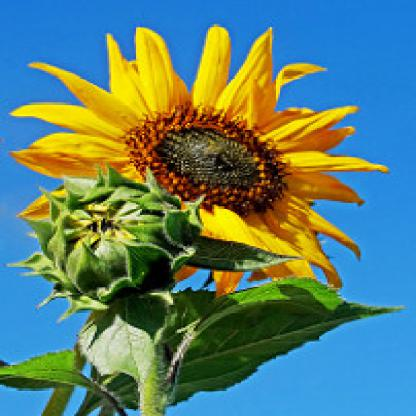SUN FLOWER: (5, 6, 366, 310)
